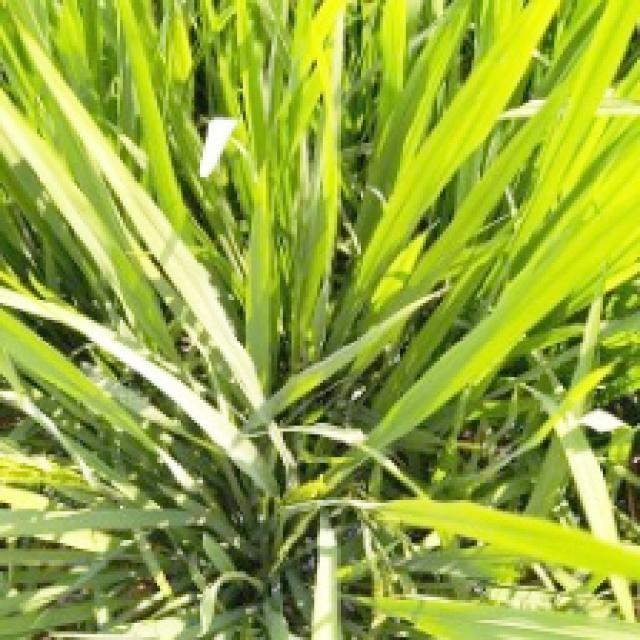health: (490, 0, 640, 277)
